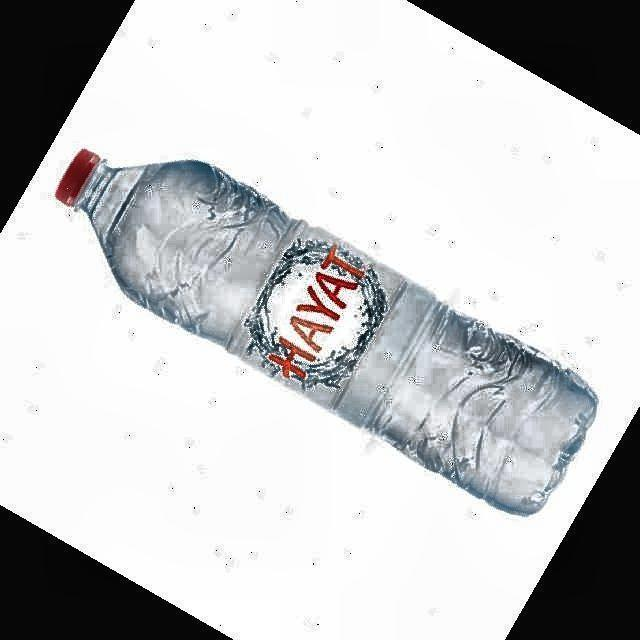plastic: (56, 151, 595, 513)
